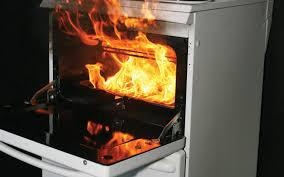fire: (61, 0, 180, 102), (86, 115, 160, 158)
